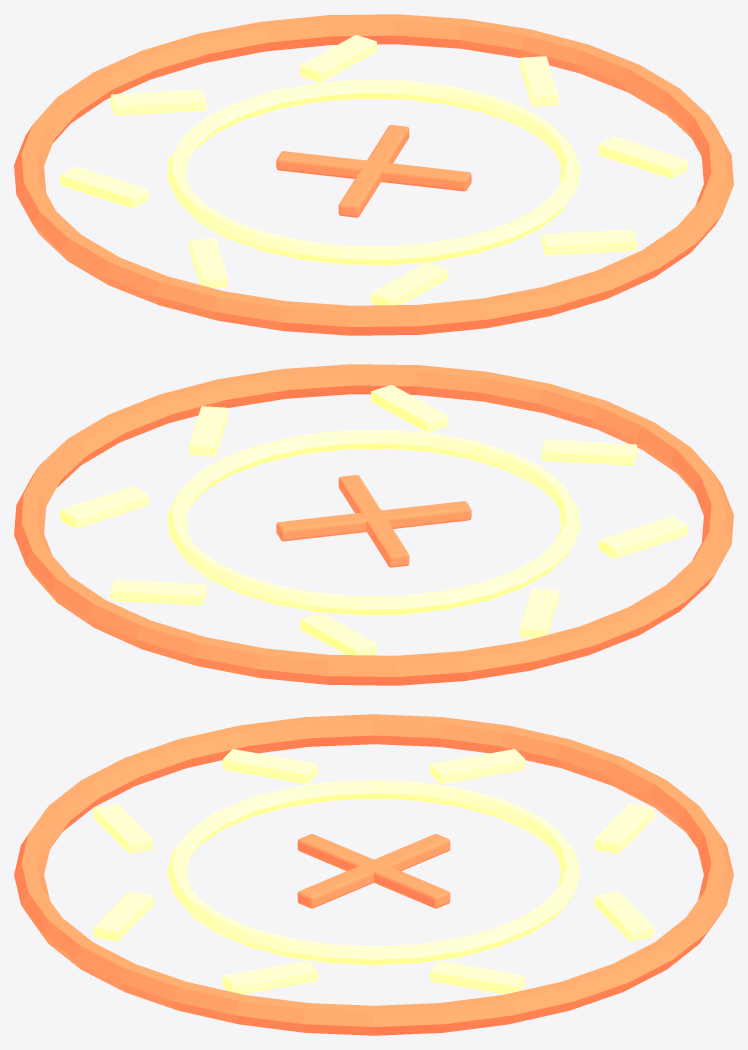
The model's file is vfx_enemy_talisman_telegraph_v0_7.glb.
3 renders of one model, top to bottom at view 1: azimuth 30°, elevation 25°; view 2: azimuth 150°, elevation 25°; view 3: azimuth 270°, elevation 25°, orthographic.
Visible parts, largest first — view 1: presentation_talisman_warning_outer, presentation_talisman_warning_inner, presentation_talisman_seal_y, presentation_talisman_seal_x, presentation_talisman_rune_00, presentation_talisman_rune_04, presentation_talisman_rune_05, presentation_talisman_rune_01, presentation_talisman_rune_03, presentation_talisman_rune_07, presentation_talisman_rune_02, presentation_talisman_rune_06; view 2: presentation_talisman_warning_outer, presentation_talisman_warning_inner, presentation_talisman_seal_x, presentation_talisman_seal_y, presentation_talisman_rune_03, presentation_talisman_rune_07, presentation_talisman_rune_06, presentation_talisman_rune_02, presentation_talisman_rune_00, presentation_talisman_rune_04, presentation_talisman_rune_01, presentation_talisman_rune_05; view 3: presentation_talisman_warning_outer, presentation_talisman_warning_inner, presentation_talisman_seal_y, presentation_talisman_seal_x, presentation_talisman_rune_05, presentation_talisman_rune_06, presentation_talisman_rune_01, presentation_talisman_rune_02, presentation_talisman_rune_00, presentation_talisman_rune_03, presentation_talisman_rune_04, presentation_talisman_rune_07.
Part boxes in pixels (x1,y1,x2,y2): presentation_talisman_warning_outer: (14,14,733,335); presentation_talisman_warning_inner: (167,79,580,265); presentation_talisman_seal_y: (276,151,471,191); presentation_talisman_seal_x: (338,125,409,217); presentation_talisman_rune_00: (541,229,637,255); presentation_talisman_rune_04: (110,89,206,115); presentation_talisman_rune_05: (60,166,149,208); presentation_talisman_rune_01: (598,136,687,178); presentation_talisman_rune_03: (300,35,376,82); presentation_talisman_rune_07: (371,262,447,305); presentation_talisman_rune_02: (520,56,558,106); presentation_talisman_rune_06: (189,238,227,288); presentation_talisman_warning_outer: (14,364,733,685); presentation_talisman_warning_inner: (167,429,580,615); presentation_talisman_seal_x: (276,501,471,541); presentation_talisman_seal_y: (338,475,409,567); presentation_talisman_rune_03: (110,579,206,605); presentation_talisman_rune_07: (541,439,637,465); presentation_talisman_rune_06: (598,516,687,558); presentation_talisman_rune_02: (60,486,149,528); presentation_talisman_rune_00: (371,385,447,432); presentation_talisman_rune_04: (300,612,376,655); presentation_talisman_rune_01: (189,406,227,456); presentation_talisman_rune_05: (520,588,558,638); presentation_talisman_warning_outer: (14,714,733,1035); presentation_talisman_warning_inner: (167,779,580,965); presentation_talisman_seal_y: (297,834,450,908); presentation_talisman_seal_x: (297,834,450,908); presentation_talisman_rune_05: (430,749,525,784); presentation_talisman_rune_06: (222,749,317,784); presentation_talisman_rune_01: (222,960,317,994); presentation_talisman_rune_02: (430,960,525,994); presentation_talisman_rune_00: (93,891,153,941); presentation_talisman_rune_03: (594,891,654,941); presentation_talisman_rune_04: (594,803,654,853); presentation_talisman_rune_07: (93,803,153,853).
Bounding box in the file's own units: 2.63 × 0.0953 × 2.63.
